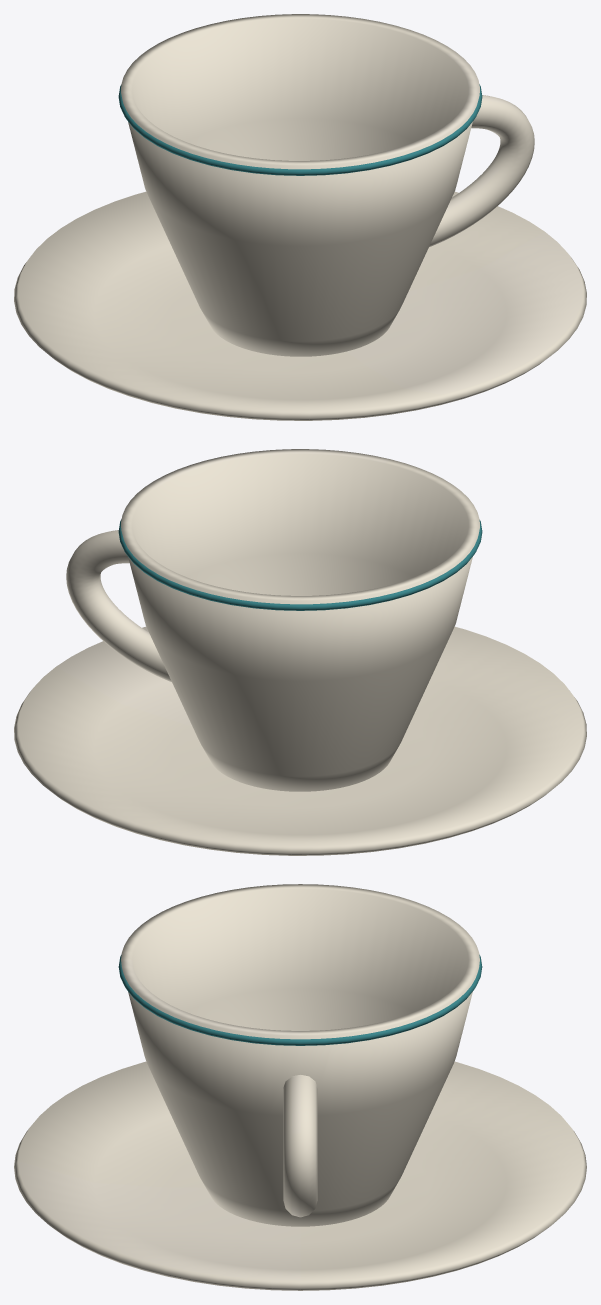
File: cup.glb
3 views of the same model, one above another, from view 1: azimuth 30°, elevation 25°; view 2: azimuth 150°, elevation 25°; view 3: azimuth 270°, elevation 25° (orthographic).
Visible parts, largest first — view 1: Ceramic plate, Teacup original glazed rim; view 2: Ceramic plate, Teacup original glazed rim; view 3: Ceramic plate, Teacup original glazed rim.
Boxes of the visible parts, x1,y1,x2,y2 form: Ceramic plate: (14, 14, 586, 420); Teacup original glazed rim: (118, 84, 482, 175); Ceramic plate: (14, 449, 586, 855); Teacup original glazed rim: (118, 519, 482, 610); Ceramic plate: (14, 884, 586, 1290); Teacup original glazed rim: (118, 954, 482, 1045).
Size of the model in its own units: 0.15 by 0.0694 by 0.15.
2 materials, 2 textured.
